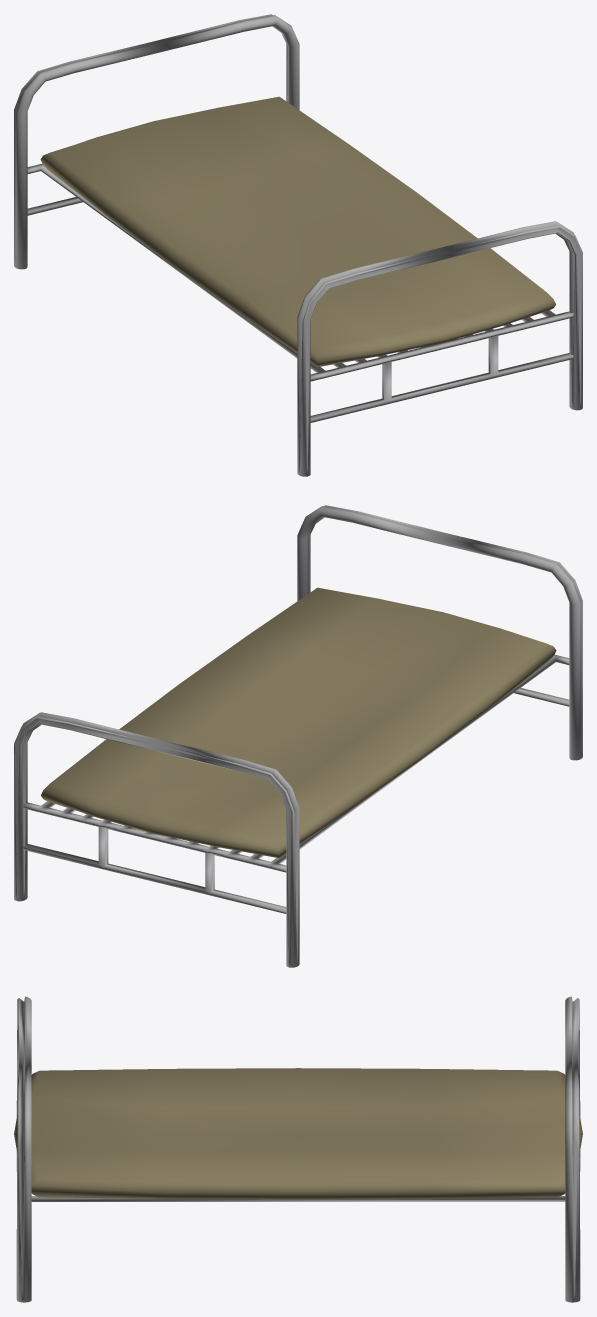
Rendered from Old_bed.fbx.
3 views of the same model, one above another, from view 1: azimuth 30°, elevation 25°; view 2: azimuth 150°, elevation 25°; view 3: azimuth 270°, elevation 25° (orthographic). The views are drawn at different scales.
Parts seen in each view (by area): view 1: Cylinder; view 2: Cylinder; view 3: Cylinder.
Part boxes in pixels (x1=…): Cylinder: x1=14, y1=14, x2=582, y2=476; Cylinder: x1=14, y1=505, x2=582, y2=967; Cylinder: x1=14, y1=996, x2=582, y2=1302.
Size of the model in its own units: 7.1 by 4.59 by 12.76.
